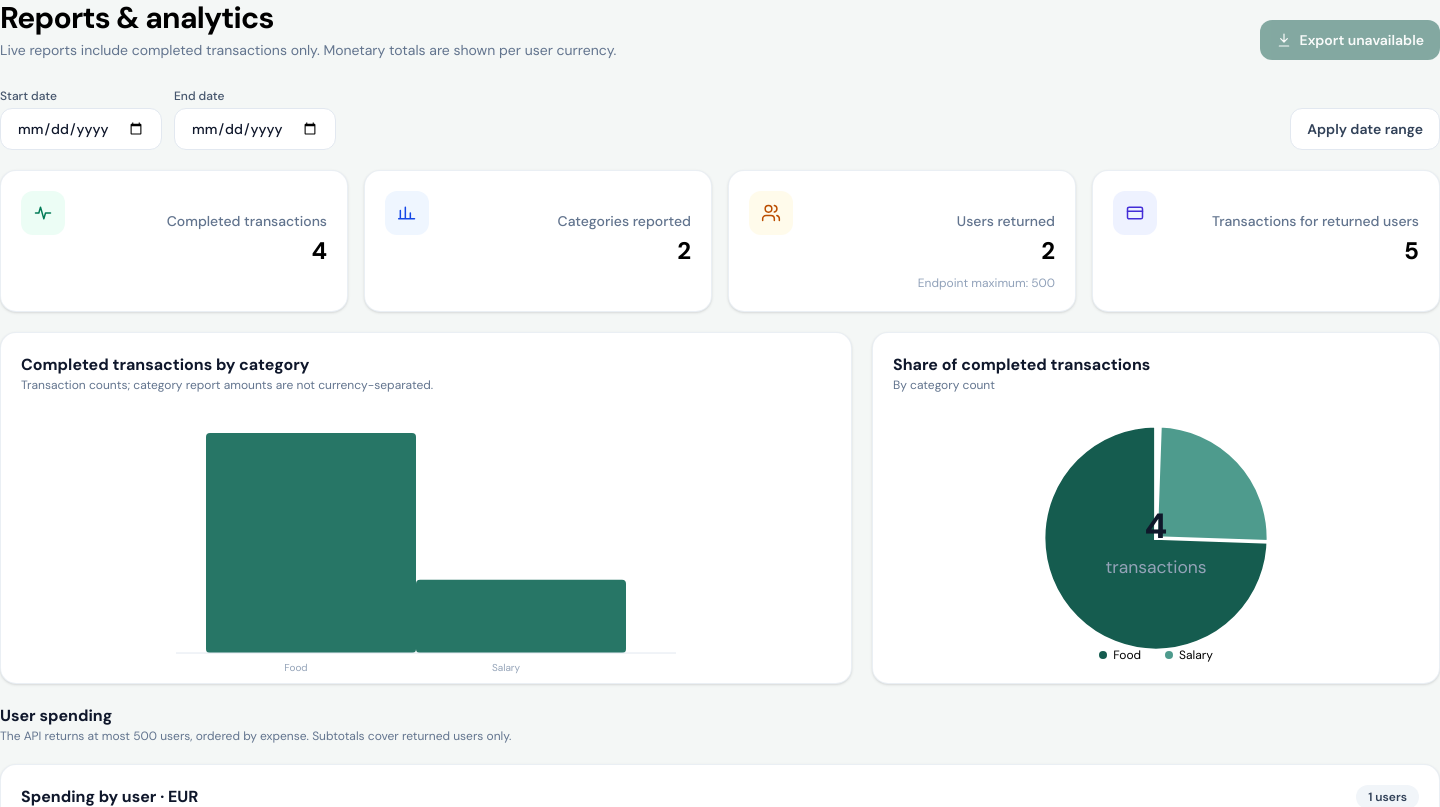
it: AdminReports › does not fetch an invalid date range
This screenshot has width=1440, height=807.
Type "2026-11-01" into the date field labelled "Start date".
click(81, 129); type("2026-11-01")  # box x1=0 y1=108 x2=162 y2=150
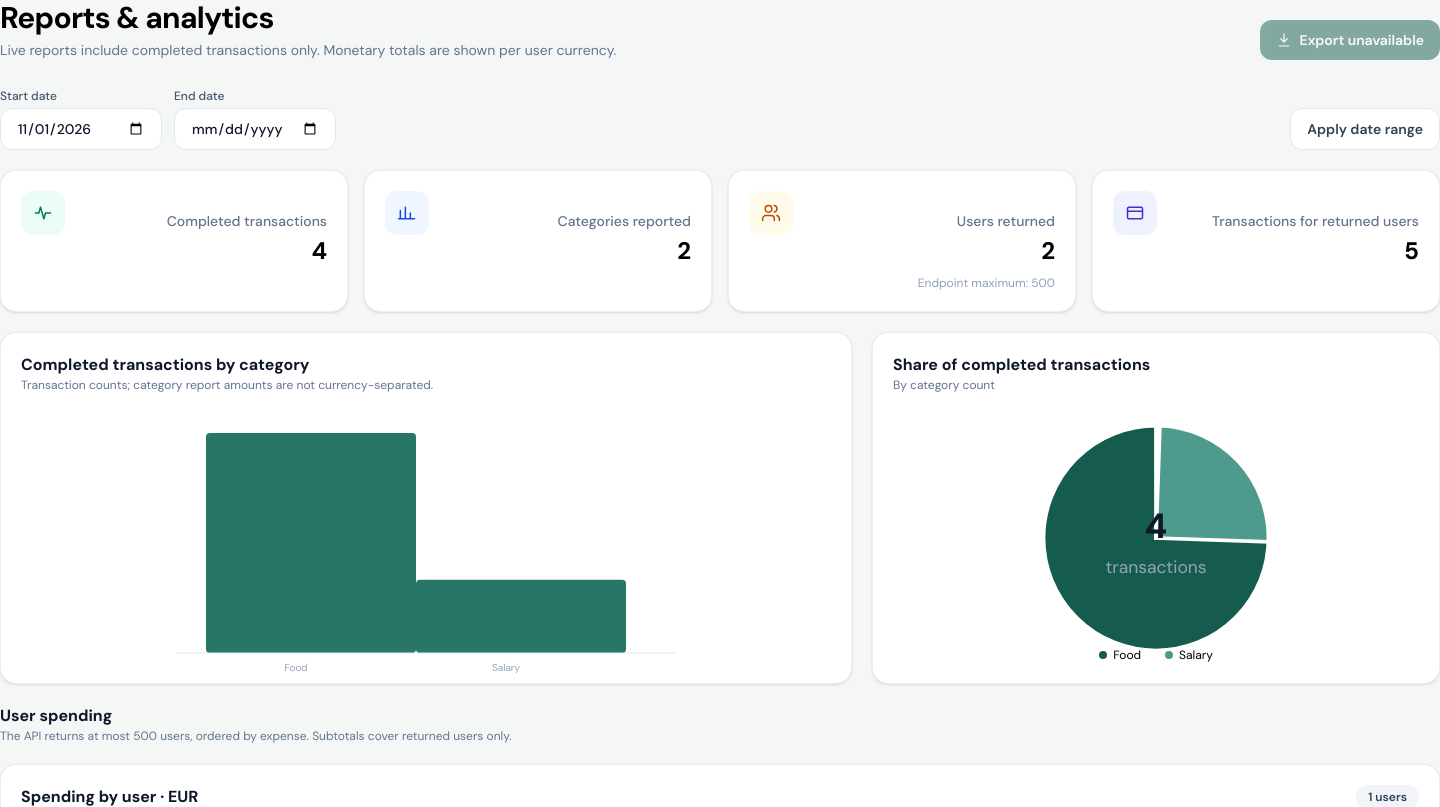
Type "2026-10-01" into the date field labelled "End date".
click(255, 129); type("2026-10-01")  # box x1=174 y1=108 x2=336 y2=150
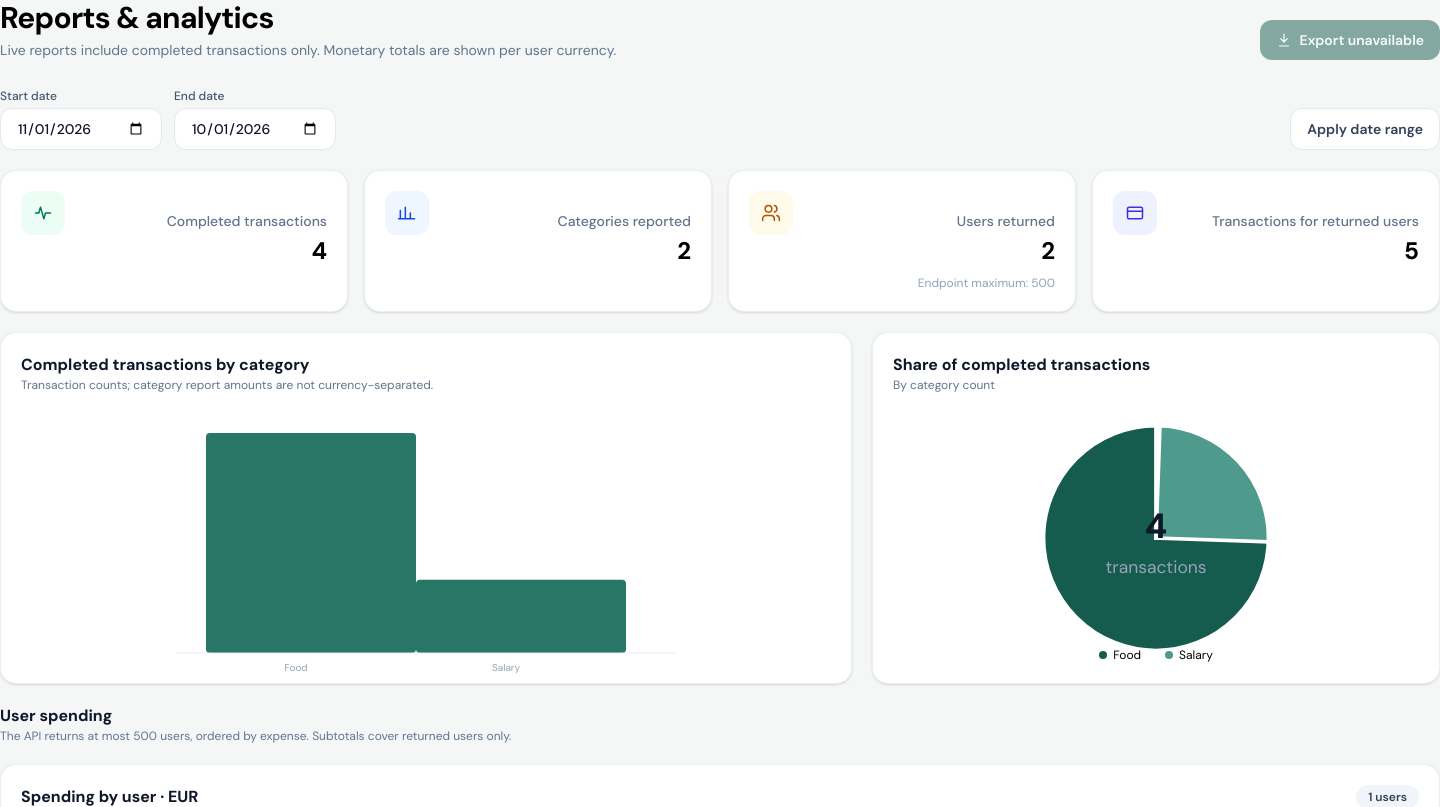
Click the button "Apply date range".
click(1365, 129)  # box x1=1290 y1=108 x2=1439 y2=150
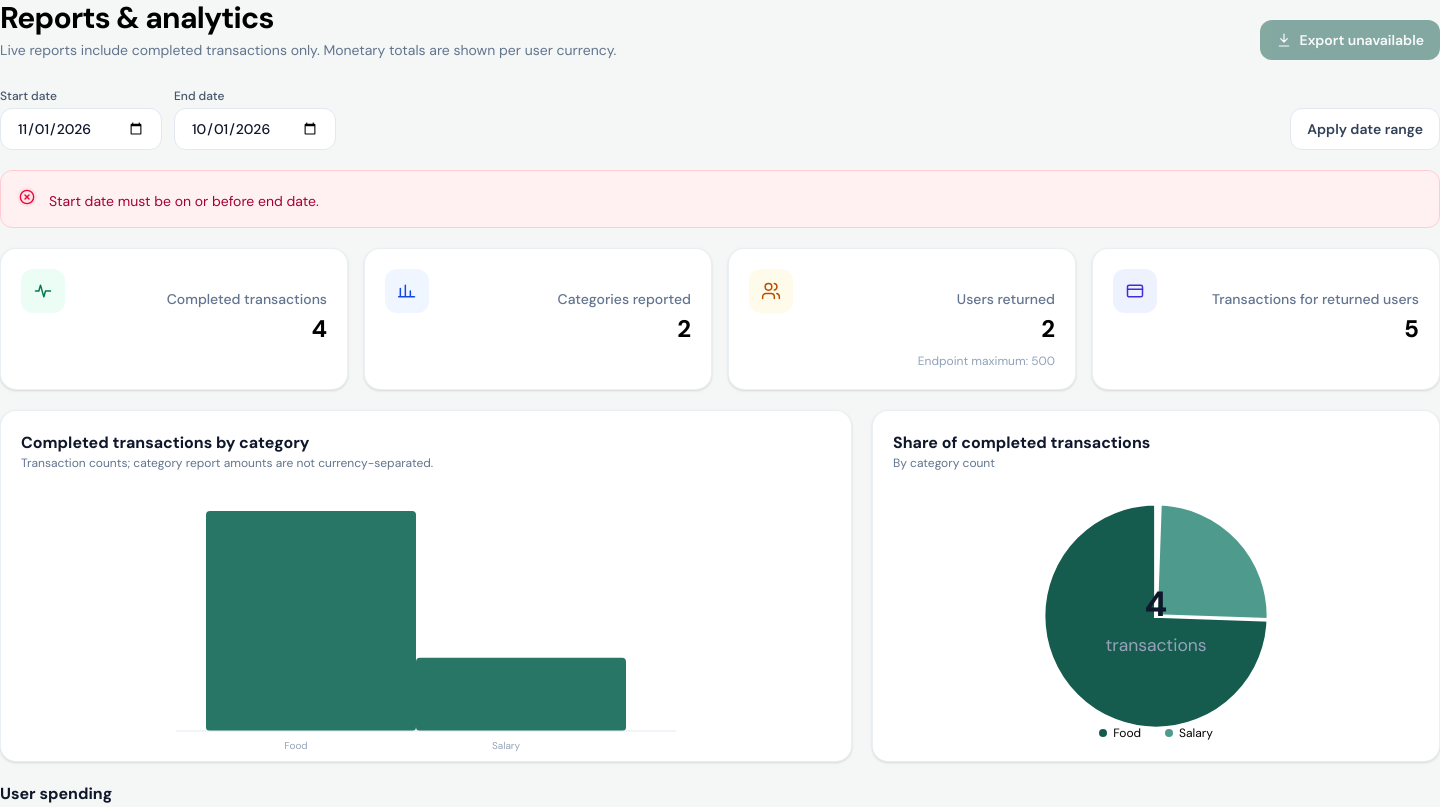
Expected: the text "Start date must be on or before end date." is shown, x1=49 y1=191 x2=319 y2=211
